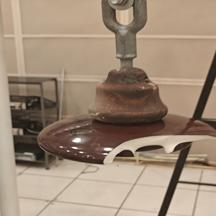insulator: (32, 58, 216, 178)
